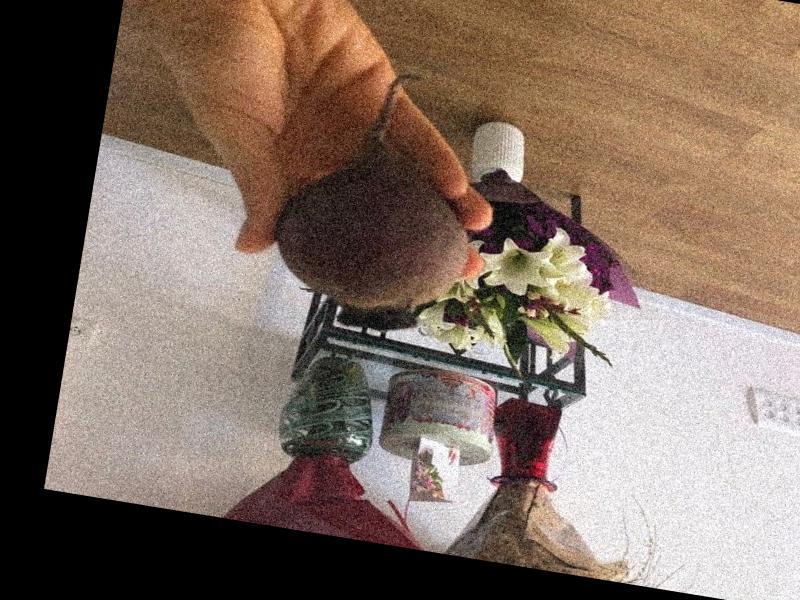Beet: (264, 57, 495, 343)
